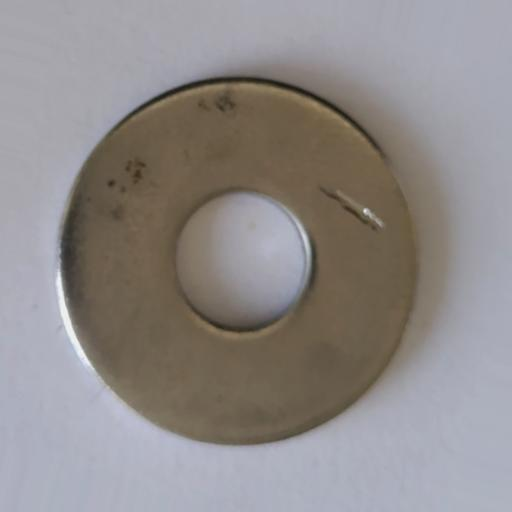scratch: (318, 186, 386, 232)
